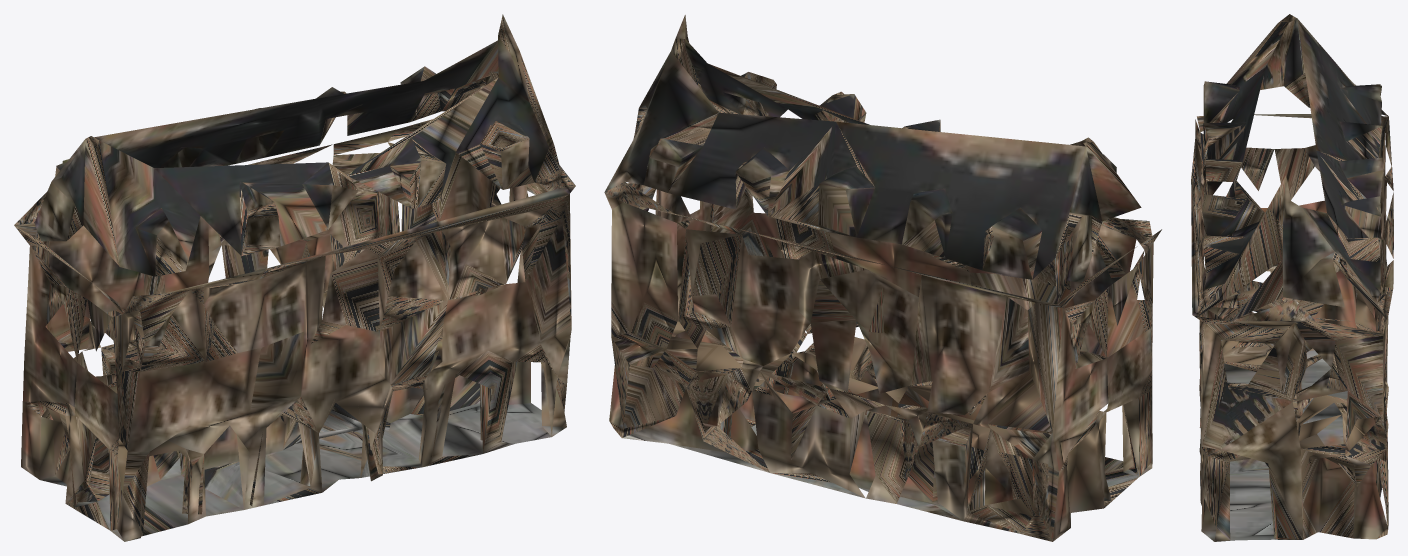
File: lille-bourse.lod.glb
3 views of the same model, side by side, from view 1: azimuth 30°, elevation 25°; view 2: azimuth 150°, elevation 25°; view 3: azimuth 270°, elevation 25° (orthographic). The views are drawn at different scales.
Visible parts, largest first — view 1: world; view 2: world; view 3: world.
Boxes of the visible parts, left/top/right/bottom form: world: left=14, top=14, right=575, bottom=541; world: left=604, top=15, right=1161, bottom=541; world: left=1191, top=14, right=1393, bottom=541.
Bounding box in the file's own units: 1.24 × 0.9997 × 0.5144.
Materials: 1 (1 with a texture image).
